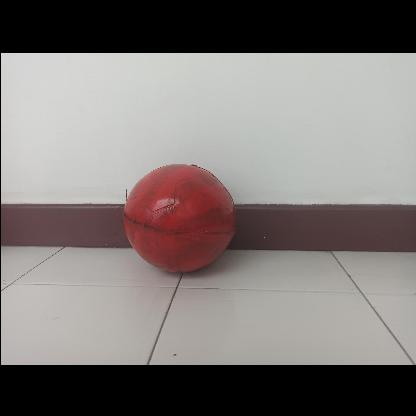red_ball: (126, 160, 236, 270)
